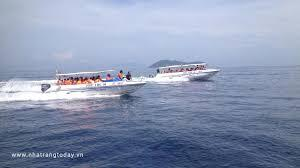Ship: (40, 73, 150, 97), (152, 63, 223, 84)
